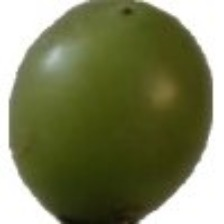grapes: (56, 34, 210, 175)
